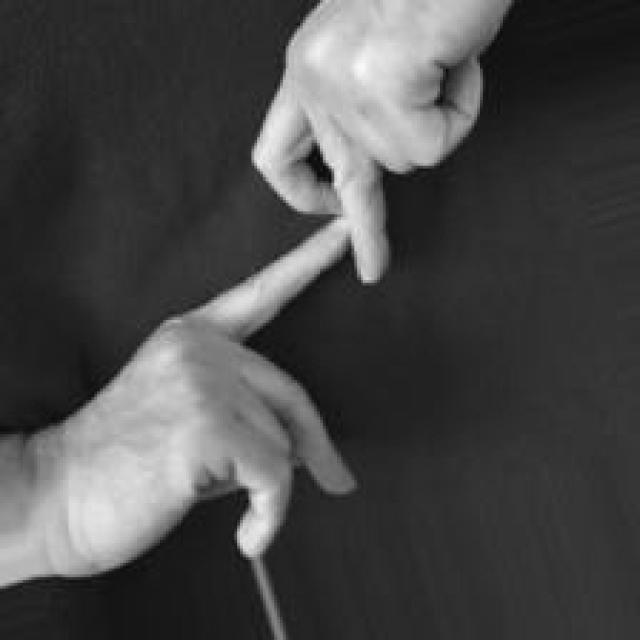R: (0, 0, 517, 583)
